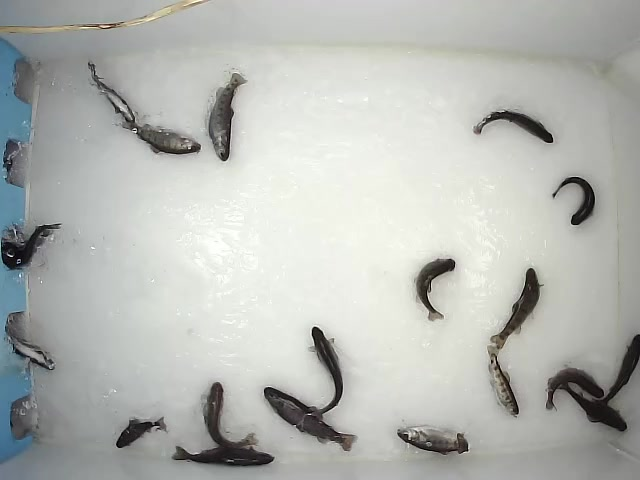fish: (263, 384, 359, 453), (490, 267, 546, 350), (200, 381, 261, 449), (207, 71, 250, 163), (556, 380, 629, 433), (306, 324, 345, 420), (593, 329, 640, 408), (472, 104, 555, 145), (86, 60, 137, 124), (120, 120, 203, 157), (544, 365, 605, 413), (414, 255, 456, 323), (486, 344, 520, 419), (551, 174, 597, 227), (395, 424, 471, 456), (171, 446, 275, 468), (115, 415, 169, 450)
